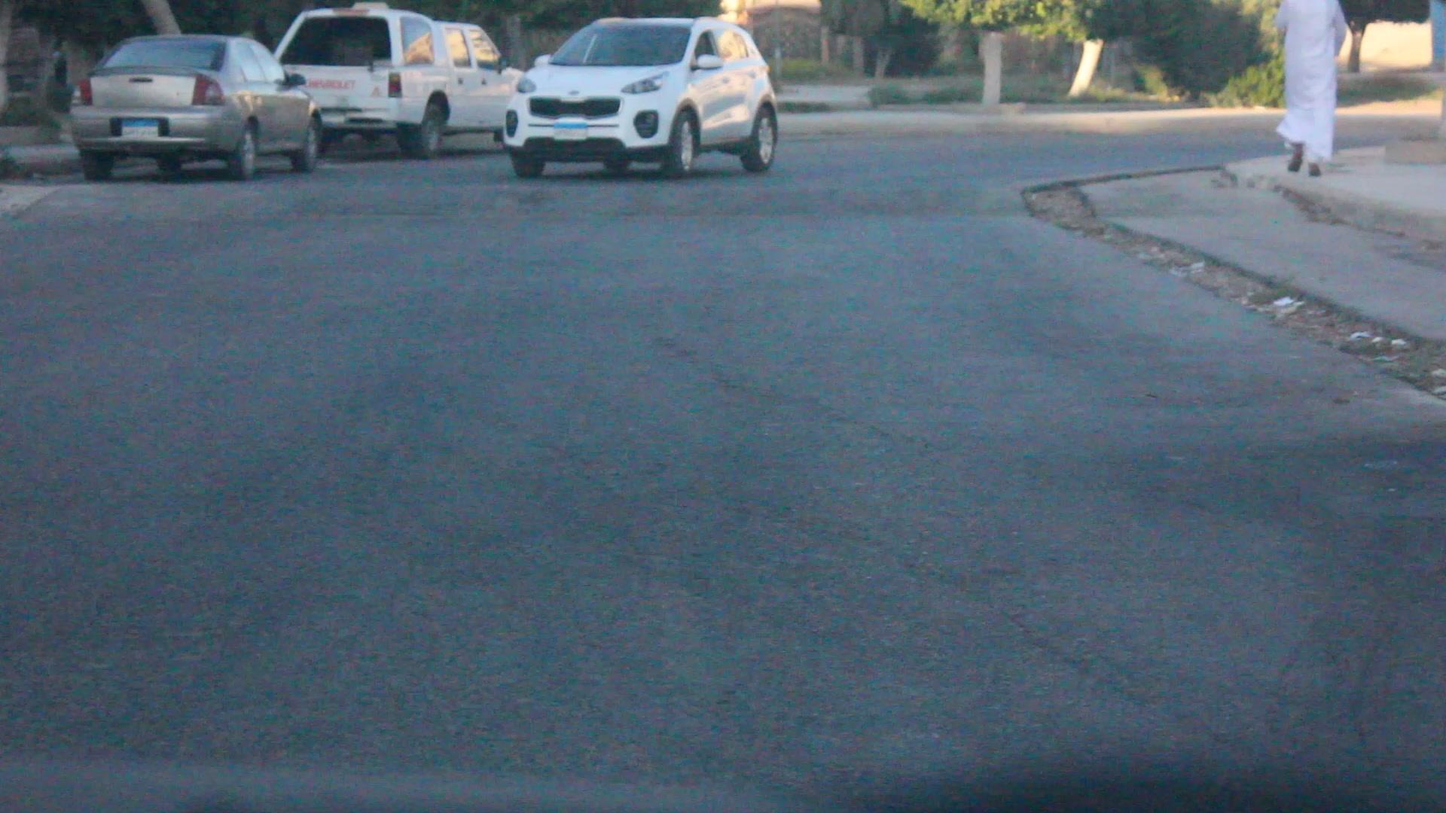Bump: (34, 183, 1032, 213)
